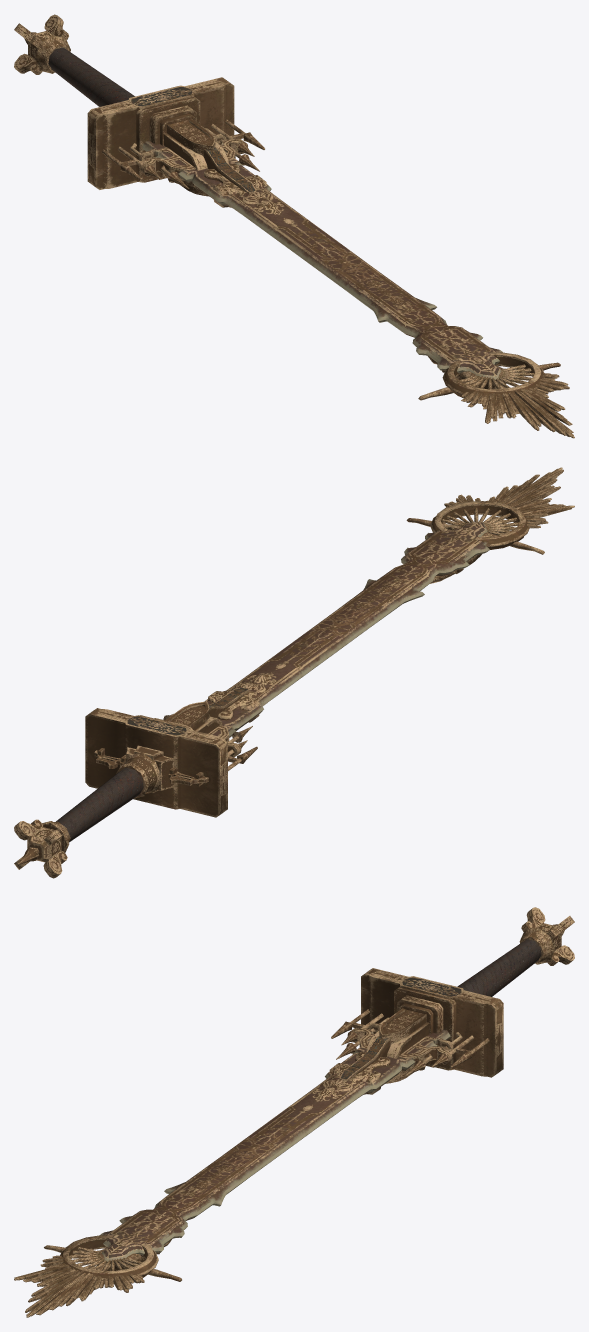
The picture shows the model from 3 angles, top to bottom: view 1: azimuth 30°, elevation 25°; view 2: azimuth 150°, elevation 25°; view 3: azimuth 330°, elevation 25°; orthographic projection. The views are drawn at different scales.
Parts seen in each view (by area): view 1: WP_A_0216; view 2: WP_A_0216; view 3: WP_A_0216.
Part boxes in pixels (x1,y1,x2,y2): WP_A_0216: [14, 14, 574, 438]; WP_A_0216: [14, 467, 574, 878]; WP_A_0216: [14, 907, 574, 1317].
Size of the model in its own units: 16.82 by 8.49 by 115.
1 material, 1 textured.
